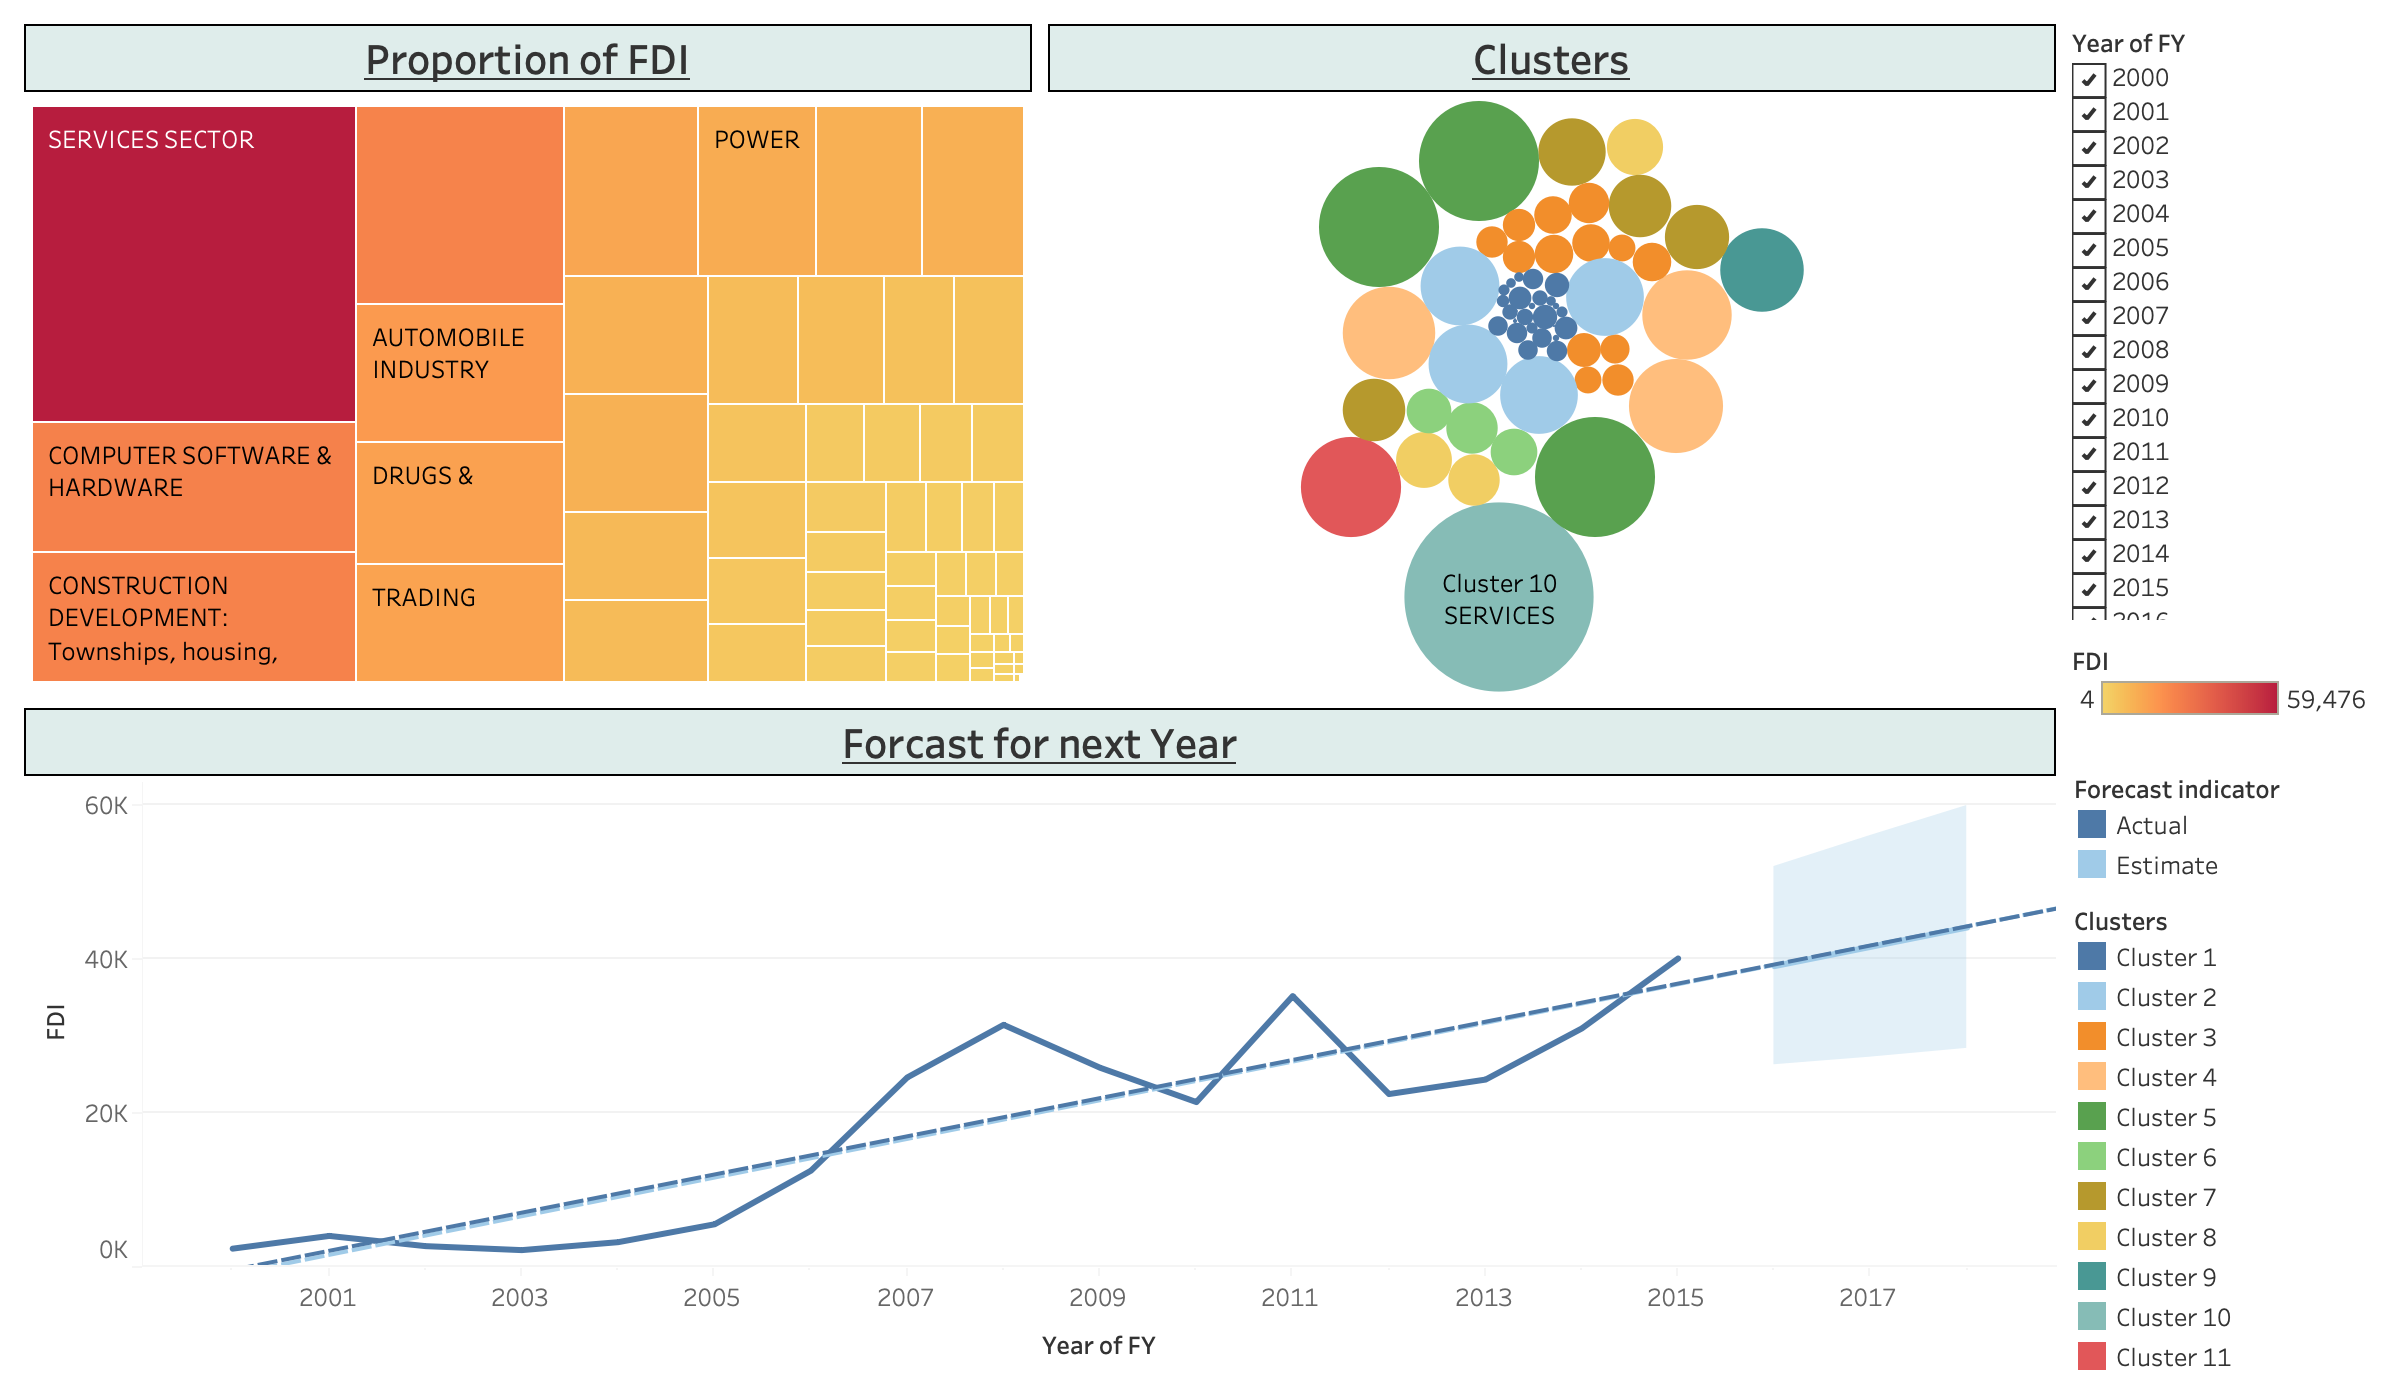

The dashboard page shown, as its layout file describes it:
{"tool":"tableau","page":{"name":"Dashboard 2","canvas":[1200,700],"ordinal":1},"visuals":[{"type":"worksheet","title":"Proportion of FDI","mark":"Automatic","box":[8,8,512,342]},{"type":"worksheet","title":"Clusters","mark":"Circle","box":[520,8,512,342]},{"type":"filter","title":"Proportion of FDI","param":"[federated.0hdzc2f15fluij17tfksx0r0upzz].[yr:Calculation_104849471985823745:ok]","box":[1032,8,160,307]},{"type":"legend","title":"Proportion of FDI","param":"[federated.0hdzc2f15fluij17tfksx0r0upzz].[sum:Pivot Field Values:qk]","box":[1032,315,160,65]},{"type":"worksheet","title":"Forcast for next Year","mark":"Automatic","rows":["Pivot Field Values"],"cols":["Calculation_104849471985823745"],"box":[8,350,1024,342]},{"type":"legend","title":"Forcast for next Year","param":"[federated.0hdzc2f15fluij17tfksx0r0upzz].[none:Forecast Indicator:nk]","box":[1032,380,160,66]},{"type":"legend","title":"Clusters","param":"[federated.0hdzc2f15fluij17tfksx0r0upzz].[none:AdhocCluster:1:ok]","box":[1032,446,160,246]}]}

Visuals, with their boxes in screenshot pixels (x1, y1, x2, y2), scaled from the page's 1200x700 canvas onto the 2400x1400 screenshot:
"Proportion of FDI" worksheet: {"left": 16, "top": 16, "right": 1040, "bottom": 700}
"Clusters" worksheet (Circle marks): {"left": 1040, "top": 16, "right": 2064, "bottom": 700}
"Proportion of FDI" filter: {"left": 2064, "top": 16, "right": 2384, "bottom": 630}
"Proportion of FDI" legend: {"left": 2064, "top": 630, "right": 2384, "bottom": 760}
"Forcast for next Year" worksheet: {"left": 16, "top": 700, "right": 2064, "bottom": 1384}
"Forcast for next Year" legend: {"left": 2064, "top": 760, "right": 2384, "bottom": 892}
"Clusters" legend: {"left": 2064, "top": 892, "right": 2384, "bottom": 1384}
